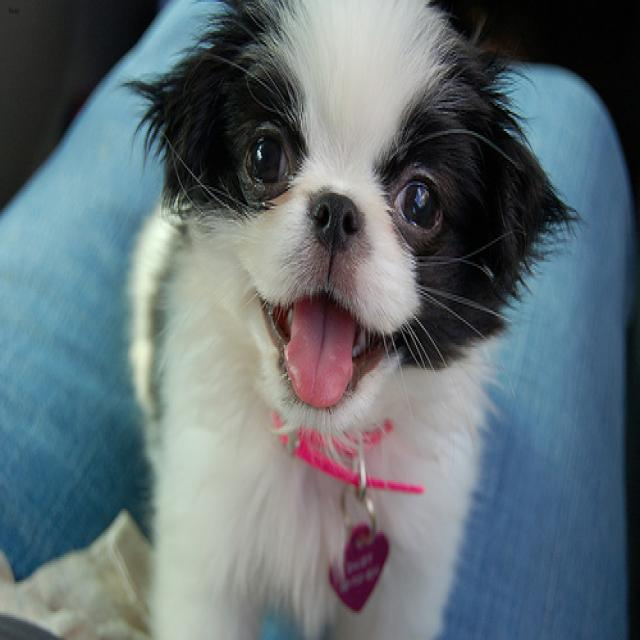dog-japanese_chin: (109, 2, 582, 636)
